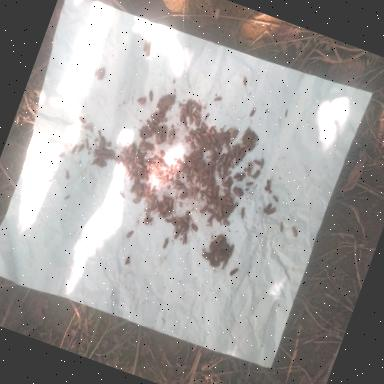pbw: (263, 177, 274, 193), (287, 225, 300, 238), (212, 213, 225, 226), (135, 96, 148, 109), (230, 186, 244, 198), (211, 92, 223, 106), (207, 258, 221, 270), (81, 138, 92, 153), (225, 241, 236, 256), (146, 88, 156, 104), (265, 205, 277, 218), (200, 250, 213, 262), (208, 238, 219, 252), (219, 258, 230, 272), (160, 236, 170, 251), (142, 43, 152, 58), (186, 130, 198, 142), (154, 132, 166, 144), (262, 202, 273, 215), (214, 146, 224, 160), (176, 220, 190, 230), (210, 197, 220, 211), (198, 121, 210, 132), (122, 164, 134, 175), (138, 127, 150, 138), (215, 194, 225, 207), (230, 200, 240, 213), (152, 200, 162, 213), (224, 207, 234, 220), (180, 116, 190, 129), (218, 251, 231, 261), (186, 103, 196, 116), (144, 116, 154, 129), (222, 168, 232, 180), (160, 126, 168, 141), (179, 234, 189, 246), (142, 206, 152, 218), (246, 142, 256, 154), (140, 182, 150, 194), (213, 161, 223, 173), (172, 216, 184, 226), (89, 156, 99, 168), (228, 266, 238, 278), (128, 148, 137, 161), (238, 148, 246, 162), (188, 164, 196, 178), (206, 172, 214, 186), (137, 150, 147, 161), (145, 201, 155, 212), (189, 223, 200, 233), (206, 213, 216, 224), (214, 208, 225, 218), (276, 221, 286, 232), (178, 190, 188, 201), (137, 140, 146, 152), (177, 162, 186, 174), (133, 192, 142, 204), (125, 228, 134, 240), (217, 152, 225, 165), (232, 129, 240, 142), (210, 154, 220, 164), (84, 122, 94, 132), (168, 216, 178, 226), (200, 164, 210, 174), (62, 170, 72, 180), (220, 212, 230, 222), (179, 228, 189, 238), (222, 218, 232, 228), (146, 155, 156, 165), (162, 210, 172, 220), (102, 140, 112, 150), (141, 166, 150, 177), (148, 164, 160, 172), (220, 194, 228, 206), (252, 168, 260, 180), (215, 138, 223, 150), (228, 146, 236, 158), (220, 203, 228, 215), (238, 207, 246, 219), (244, 166, 252, 178), (216, 141, 224, 153), (178, 110, 186, 122), (98, 158, 108, 167), (146, 168, 155, 178), (207, 140, 216, 150), (193, 106, 202, 116), (214, 170, 224, 179), (226, 176, 235, 186), (222, 164, 231, 174), (223, 143, 232, 153), (190, 188, 199, 198), (193, 152, 202, 162), (118, 151, 128, 160), (123, 256, 132, 266), (252, 159, 262, 168), (167, 198, 175, 209), (170, 164, 178, 175), (208, 165, 216, 176), (123, 156, 131, 167), (150, 117, 161, 125), (258, 158, 265, 170), (207, 160, 214, 172), (239, 172, 246, 184), (167, 162, 174, 174), (251, 133, 260, 142), (179, 107, 188, 116), (178, 225, 188, 233), (172, 224, 180, 234), (154, 170, 164, 178), (212, 186, 220, 196), (198, 146, 206, 156), (172, 172, 182, 180), (135, 162, 145, 170), (241, 76, 249, 86), (160, 204, 168, 214), (200, 204, 208, 214), (156, 158, 166, 166), (160, 196, 168, 206), (120, 148, 130, 156), (224, 200, 234, 208), (238, 142, 248, 150), (96, 130, 104, 140), (76, 116, 86, 124), (214, 252, 222, 262), (173, 230, 181, 240), (179, 184, 189, 192), (126, 161, 134, 171), (184, 176, 194, 184), (160, 164, 170, 172), (206, 207, 216, 215), (221, 153, 228, 164), (195, 116, 202, 127), (208, 127, 216, 136), (181, 216, 190, 224), (188, 143, 197, 151), (117, 191, 126, 199), (224, 204, 230, 216), (138, 190, 147, 198), (98, 148, 108, 155), (200, 178, 207, 188), (127, 146, 134, 156), (114, 156, 121, 166), (117, 155, 124, 165), (92, 148, 99, 158), (77, 144, 84, 154), (224, 156, 231, 166), (168, 127, 174, 138), (190, 116, 198, 124), (104, 148, 112, 156), (186, 160, 194, 168), (142, 174, 150, 182), (222, 188, 230, 196), (245, 180, 253, 188), (194, 140, 202, 148), (192, 170, 200, 178), (142, 160, 150, 168), (108, 149, 116, 157), (228, 162, 236, 170), (174, 160, 182, 168), (204, 196, 212, 204), (208, 148, 216, 156), (225, 186, 232, 195), (220, 181, 229, 188), (98, 152, 107, 159), (227, 193, 236, 200), (225, 195, 234, 202), (159, 116, 168, 123), (194, 175, 201, 184), (135, 148, 141, 158), (198, 190, 208, 196), (198, 173, 204, 183), (140, 135, 146, 145), (187, 116, 193, 126), (195, 134, 202, 142), (228, 128, 236, 135), (219, 256, 226, 264), (180, 104, 188, 111), (152, 206, 159, 214), (146, 195, 154, 202), (271, 195, 279, 202), (201, 174, 208, 182), (246, 162, 254, 169), (209, 136, 217, 143), (96, 162, 104, 169), (154, 175, 162, 182), (156, 124, 164, 131), (136, 167, 142, 176), (146, 162, 152, 171), (144, 216, 153, 222), (162, 218, 171, 224), (132, 178, 138, 187), (130, 185, 136, 194), (283, 109, 289, 118), (63, 194, 70, 201), (235, 172, 242, 179), (157, 212, 164, 219), (130, 174, 138, 180), (158, 128, 164, 136), (158, 112, 166, 118), (126, 170, 132, 178), (173, 184, 181, 190), (196, 128, 204, 134), (180, 155, 188, 161), (206, 144, 212, 152), (136, 178, 142, 186), (202, 137, 208, 145), (228, 132, 234, 140), (185, 139, 193, 145), (174, 180, 182, 186), (200, 132, 208, 138), (203, 114, 209, 122), (172, 158, 180, 164), (70, 146, 76, 154), (168, 173, 174, 180), (168, 180, 175, 186), (206, 190, 213, 196), (130, 174, 134, 180)
